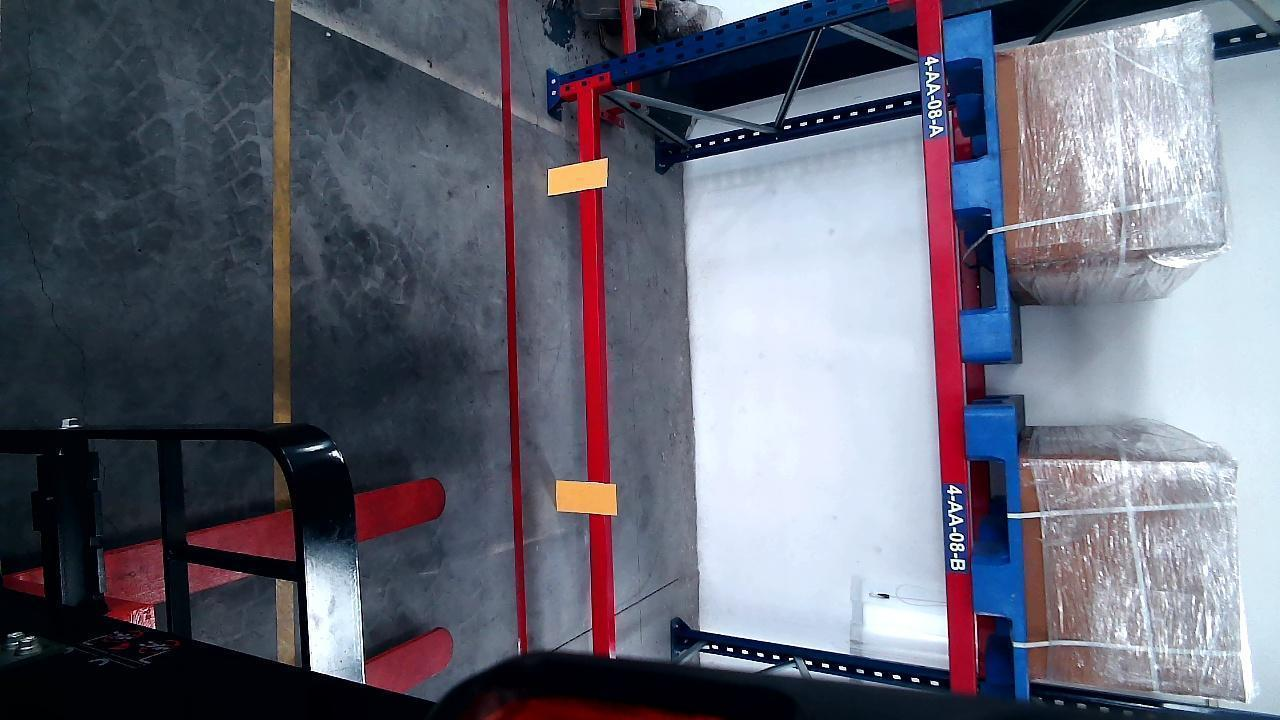red_line: (499, 0, 532, 656)
yellow_line: (270, 2, 295, 411)
